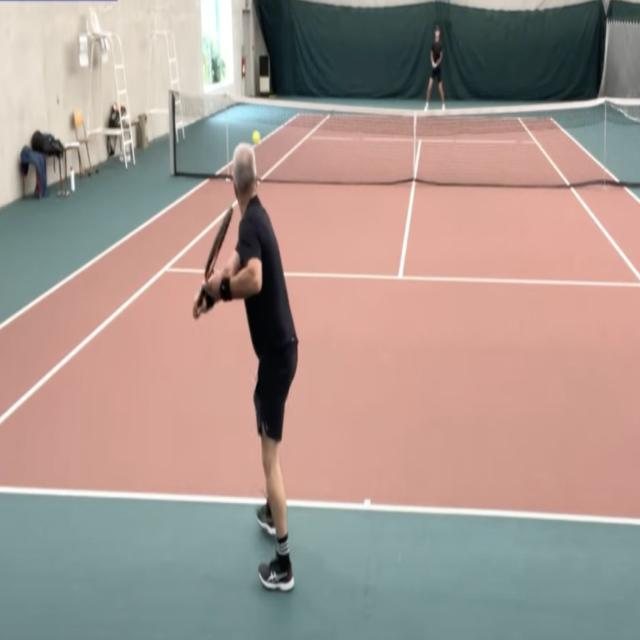ball: (253, 130, 260, 146)
